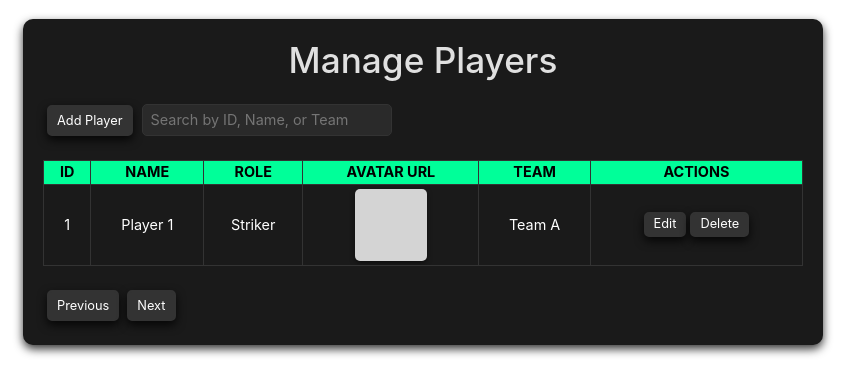
Test: PlayersAdmin Component › deletes a player when delete is confirmed
Click the button "Delete".
click(720, 225)  # box 690,212 -> 749,237
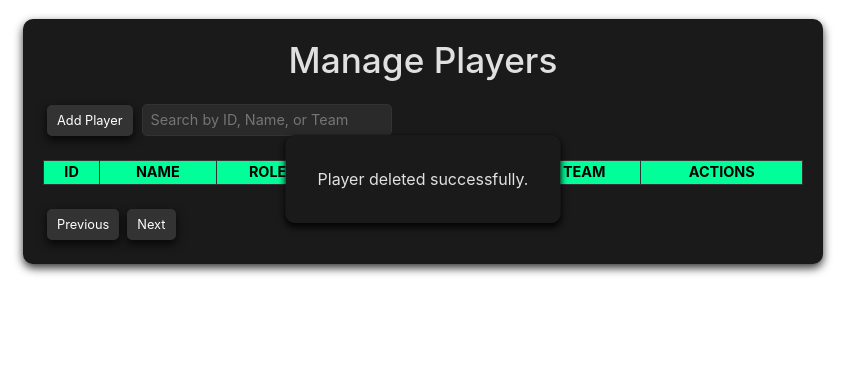
Expected: the text "Player 1" is gone
